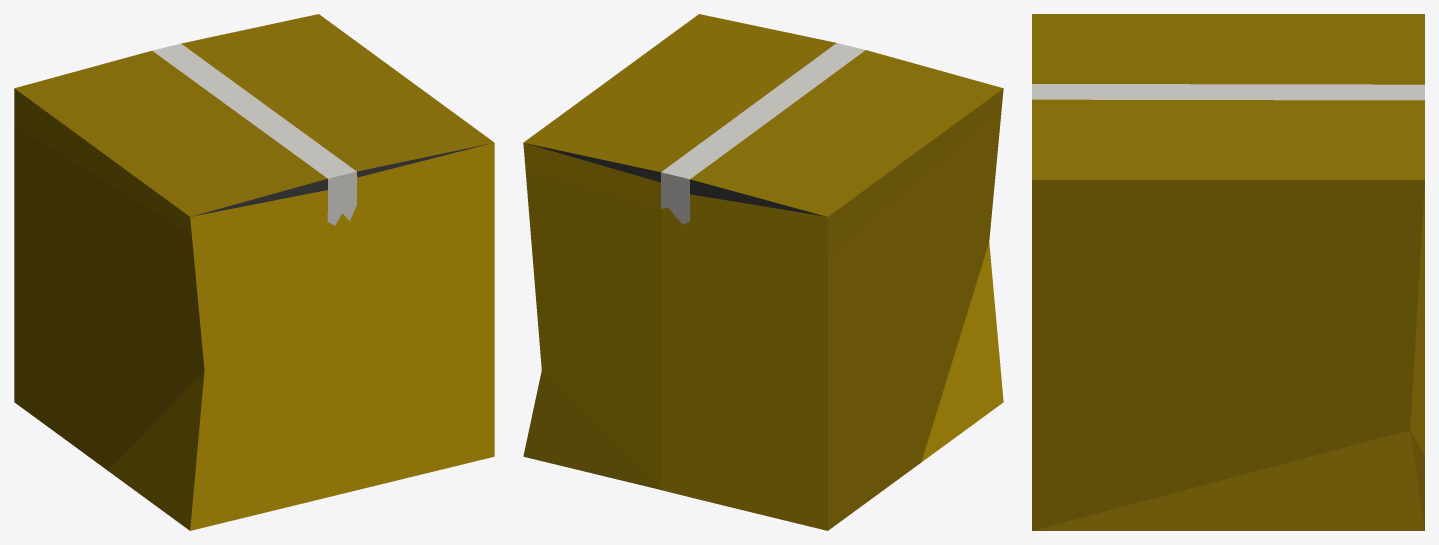
File: carton_box.fbx
3 renders of one model, left to right at view 1: azimuth 30°, elevation 25°; view 2: azimuth 150°, elevation 25°; view 3: azimuth 270°, elevation 25°, orthographic. The views are drawn at different scales.
Parts seen in each view (by area): view 1: mesh_Box; view 2: mesh_Box; view 3: mesh_Box.
Part boxes in pixels (left/top/right/bottom): mesh_Box: left=14, top=14, right=494, bottom=530; mesh_Box: left=523, top=14, right=1003, bottom=530; mesh_Box: left=1032, top=14, right=1424, bottom=530.
Bounding box in the file's own units: 0.7 × 0.7 × 0.7.
